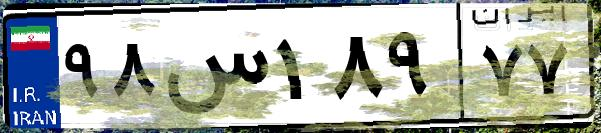1: (270, 28, 330, 110)
7: (475, 38, 525, 113), (525, 38, 570, 115)
8: (330, 28, 385, 110), (110, 28, 158, 98)
9: (385, 28, 445, 110), (57, 26, 110, 100)
س: (158, 20, 270, 120)
